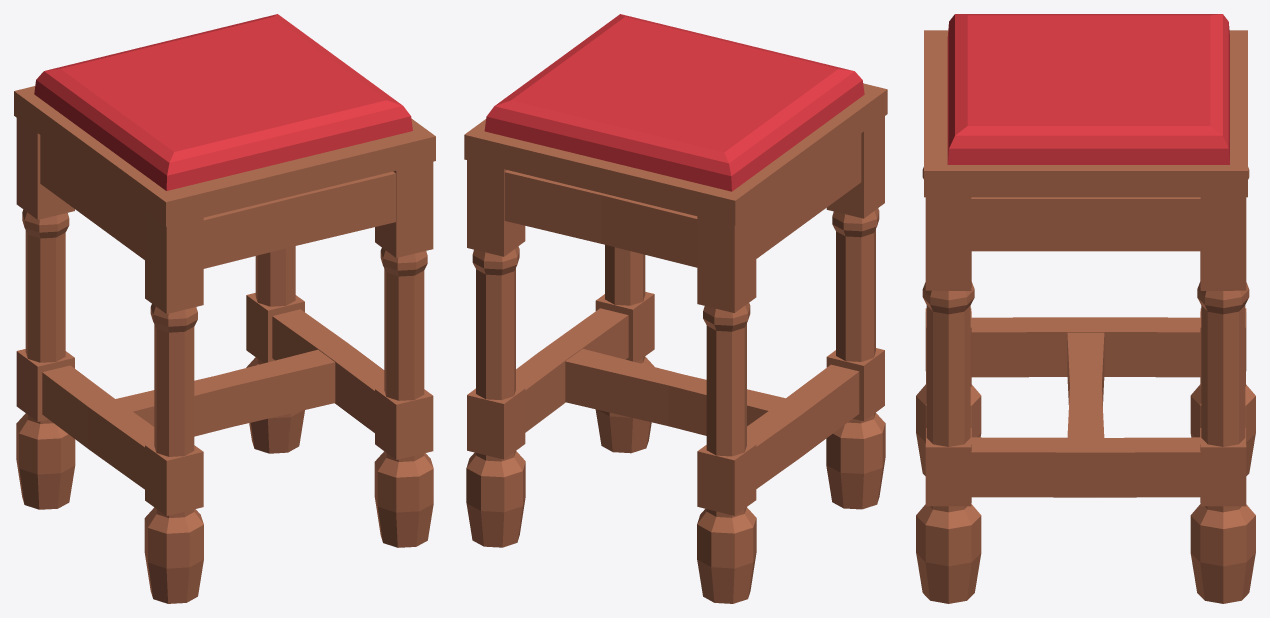
File: Chair 03.fbx
3 renders of one model, left to right at view 1: azimuth 30°, elevation 25°; view 2: azimuth 150°, elevation 25°; view 3: azimuth 270°, elevation 25°, orthographic. The views are drawn at different scales.
Visible parts, largest first — view 1: Chair 03; view 2: Chair 03; view 3: Chair 03.
Part boxes in pixels (x1,y1,x2,y2): Chair 03: (14, 14, 435, 603); Chair 03: (464, 14, 887, 603); Chair 03: (916, 14, 1255, 603).
Bounding box in the file's own units: 39.59 × 57.95 × 38.6.
